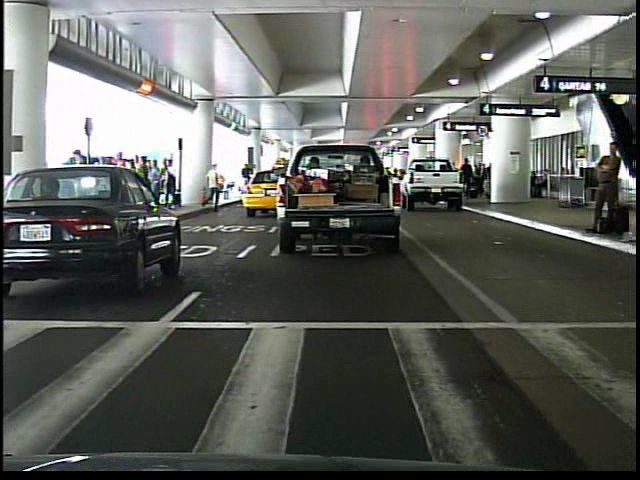person: (585, 134, 624, 245), (108, 151, 135, 222), (203, 158, 226, 214), (240, 162, 257, 195)
